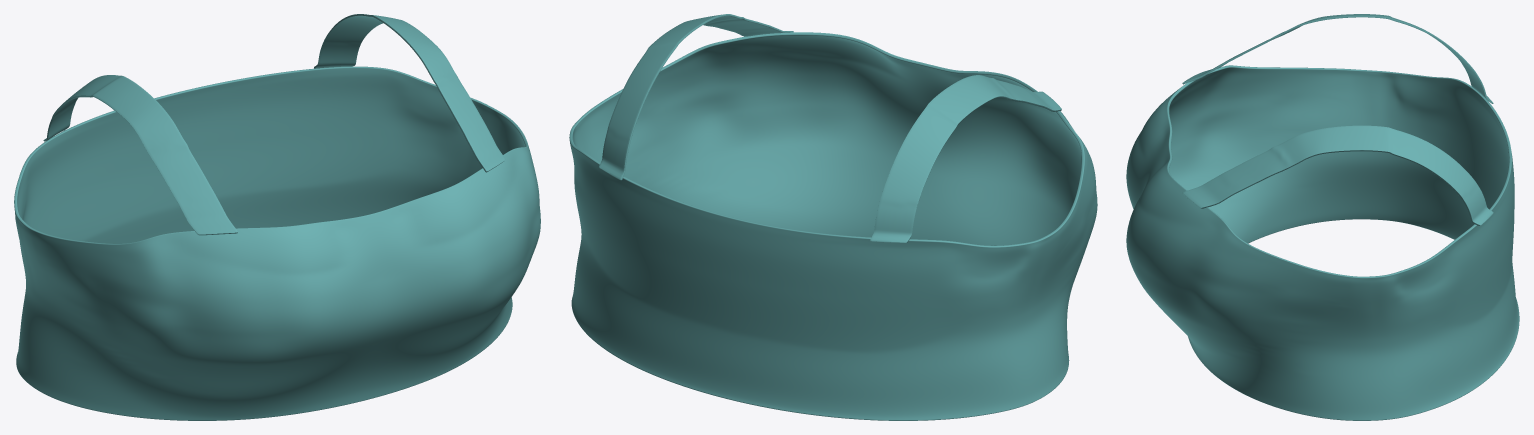
The model's file is Feminine-tank-top.glb.
The picture shows the model from 3 angles, left to right: view 1: azimuth 30°, elevation 25°; view 2: azimuth 150°, elevation 25°; view 3: azimuth 270°, elevation 25°; orthographic projection. The views are drawn at different scales.
Visible parts, largest first — view 1: Clothing / tank body, Clothing / Tank sewn strap201 -1, Clothing / Tank sewn strap201 1; view 2: Clothing / tank body, Clothing / Tank sewn strap201 -1, Clothing / Tank sewn strap201 1; view 3: Clothing / tank body, Clothing / Tank sewn strap201 1, Clothing / Tank sewn strap201 -1.
Part boxes in pixels (x1,y1,x2,y2): Clothing / tank body: [14, 66, 540, 420]; Clothing / Tank sewn strap201 -1: [43, 75, 237, 235]; Clothing / Tank sewn strap201 1: [314, 14, 505, 172]; Clothing / tank body: [569, 32, 1097, 420]; Clothing / Tank sewn strap201 -1: [870, 75, 1061, 242]; Clothing / Tank sewn strap201 1: [599, 14, 793, 180]; Clothing / tank body: [1126, 65, 1519, 420]; Clothing / Tank sewn strap201 1: [1182, 125, 1493, 225]; Clothing / Tank sewn strap201 -1: [1182, 14, 1493, 103].
Bounding box in the file's own units: 0.6201 × 0.3463 × 0.495.
